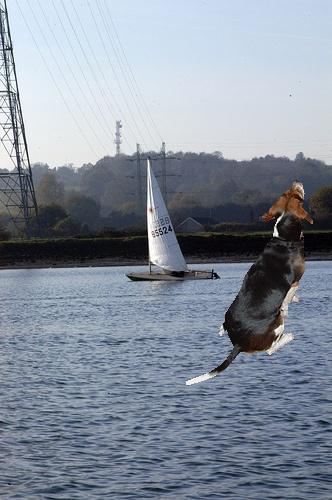tampered: (186, 181, 313, 385)
